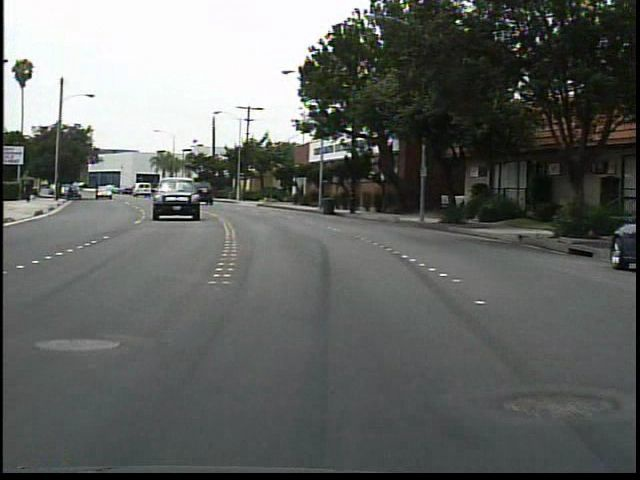person: (20, 182, 34, 204)
